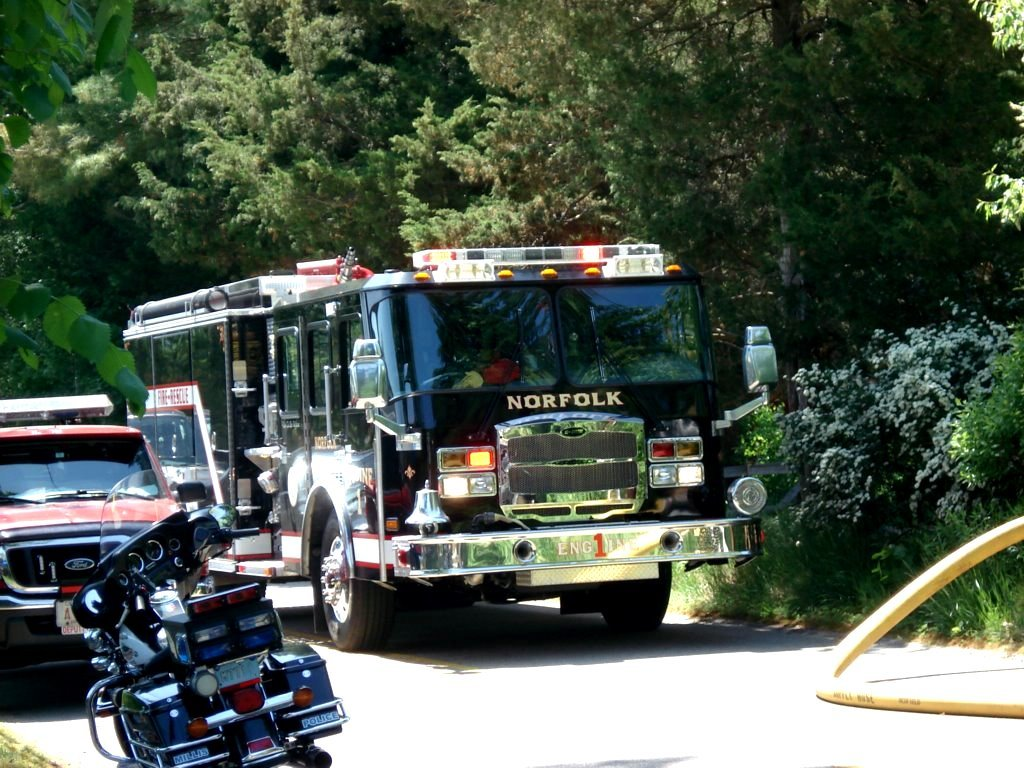car: (1, 383, 220, 685)
truck: (118, 196, 811, 649)
